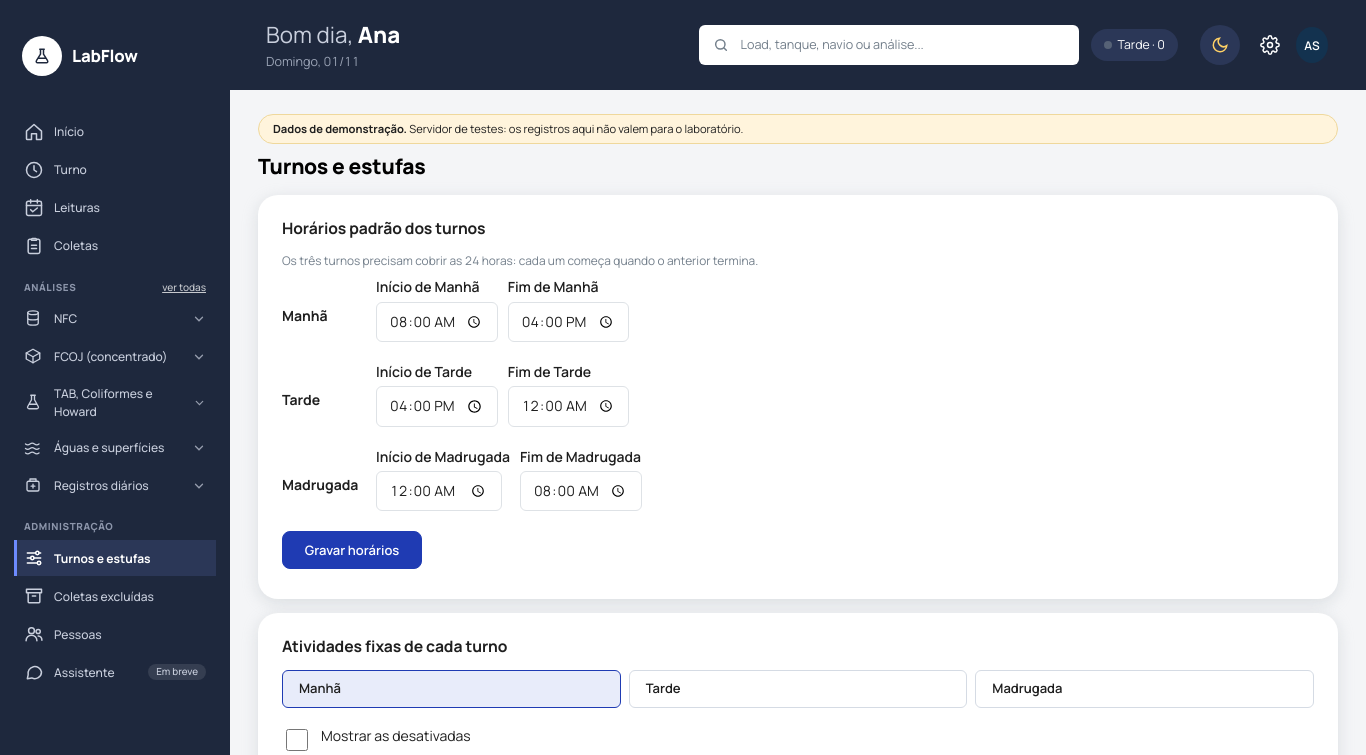
it: Admin → Turnos e estufas (APP-028) › mostra o erro da API quando os horários não fecham as 24 horas
The width and height of the screenshot is (1366, 755).
Step 1. Click the button "Gravar horários" → (352, 550), box x1=282 y1=531 x2=422 y2=569
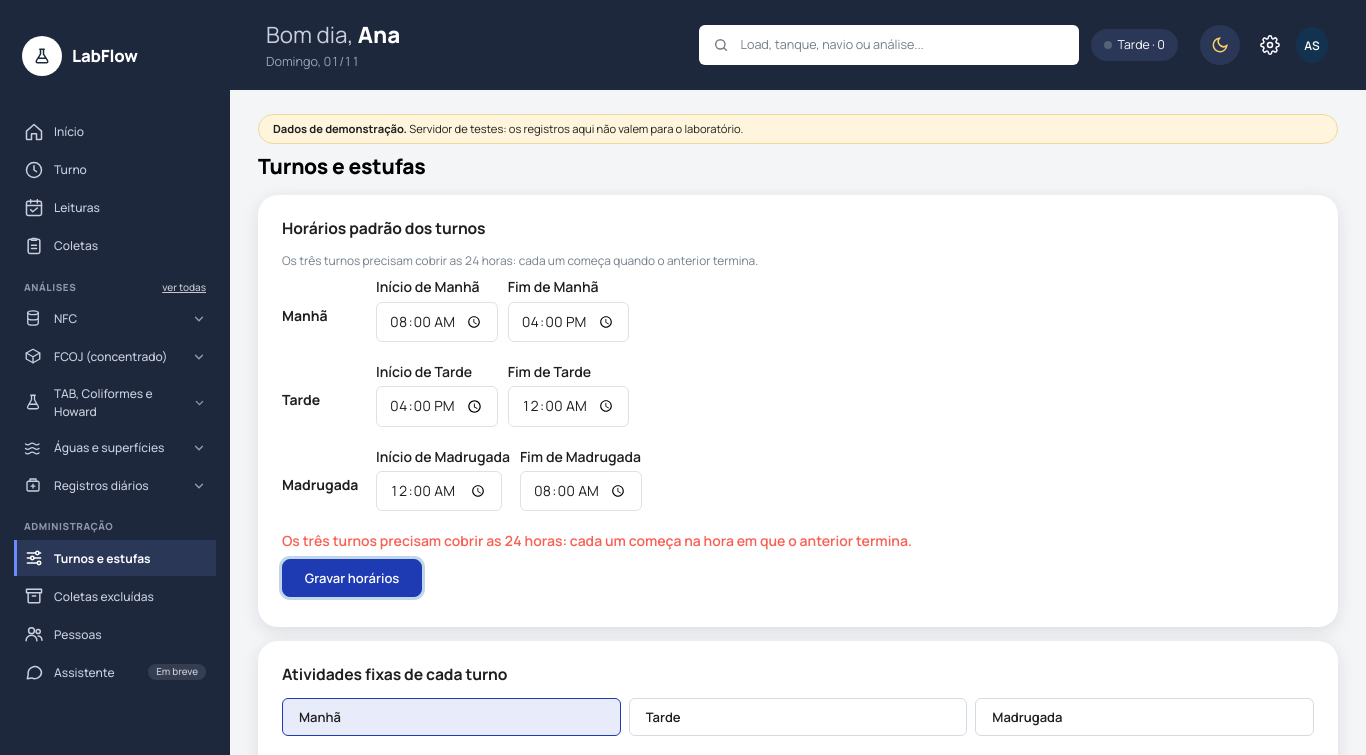
Expected: the message shows "cobrir as 24 horas", x1=282 y1=531 x2=912 y2=550
